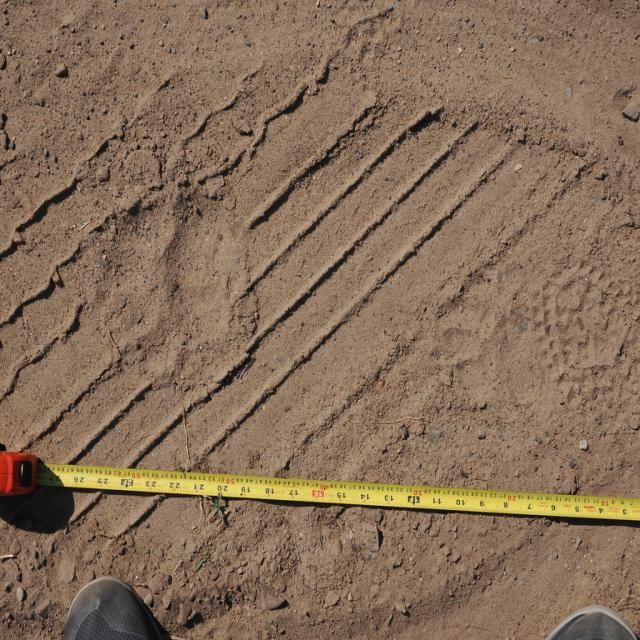bear: (102, 181, 246, 376)
